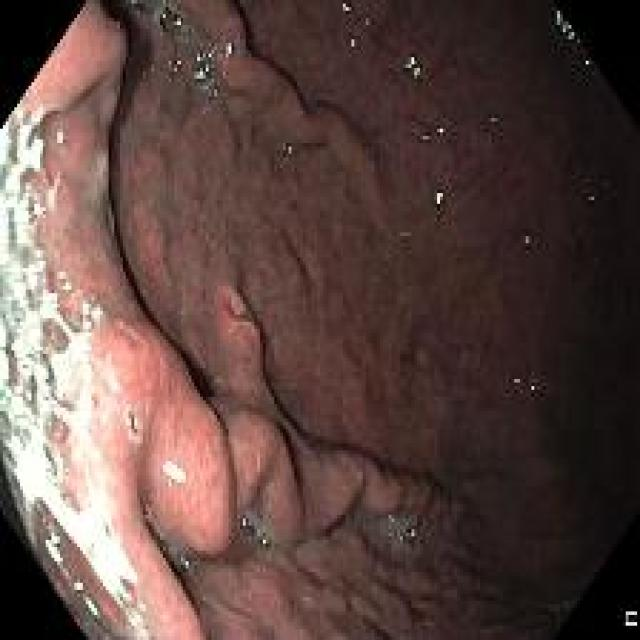bubbles: (25, 497, 140, 638), (178, 30, 226, 104), (239, 513, 272, 547), (159, 8, 192, 42), (393, 524, 423, 551), (131, 0, 165, 19), (140, 503, 160, 534), (124, 406, 139, 444), (166, 55, 184, 79), (279, 139, 295, 159)
color misalignment: (624, 611, 638, 626)
contrast: (591, 66, 637, 596)
saturation: (1, 107, 139, 607)
specularity: (160, 458, 188, 485), (45, 530, 63, 565), (556, 9, 574, 39), (194, 51, 211, 79), (83, 596, 98, 618), (405, 56, 420, 77), (431, 189, 444, 206), (55, 129, 64, 144), (73, 579, 82, 592), (340, 2, 351, 12), (226, 42, 233, 57), (436, 126, 446, 135), (133, 416, 139, 431), (125, 415, 131, 430), (209, 88, 218, 97), (174, 17, 181, 27), (350, 38, 357, 47), (585, 58, 591, 68), (407, 530, 413, 540), (161, 11, 167, 20), (261, 537, 266, 547), (399, 536, 404, 545), (422, 134, 428, 141), (242, 519, 247, 527)
